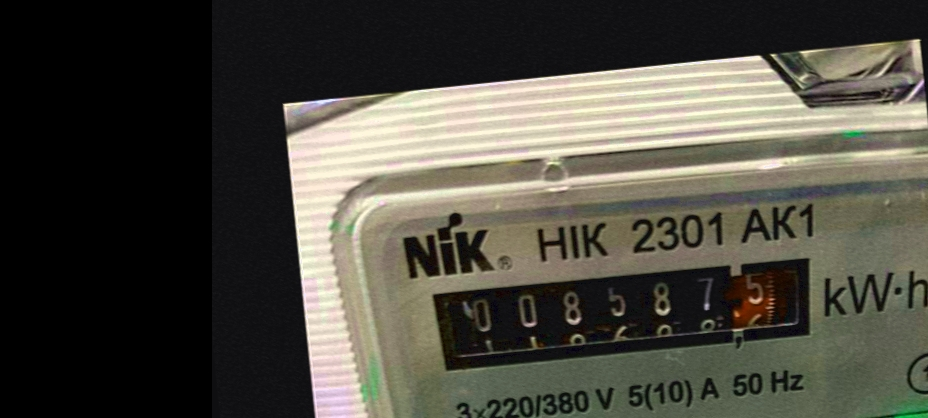0: (515, 290, 543, 332)
1: (469, 294, 497, 337)
5: (743, 267, 771, 309), (606, 281, 633, 322)
7: (694, 273, 722, 316)
8: (559, 287, 588, 330), (651, 278, 676, 321)
screen: (412, 235, 840, 396)
